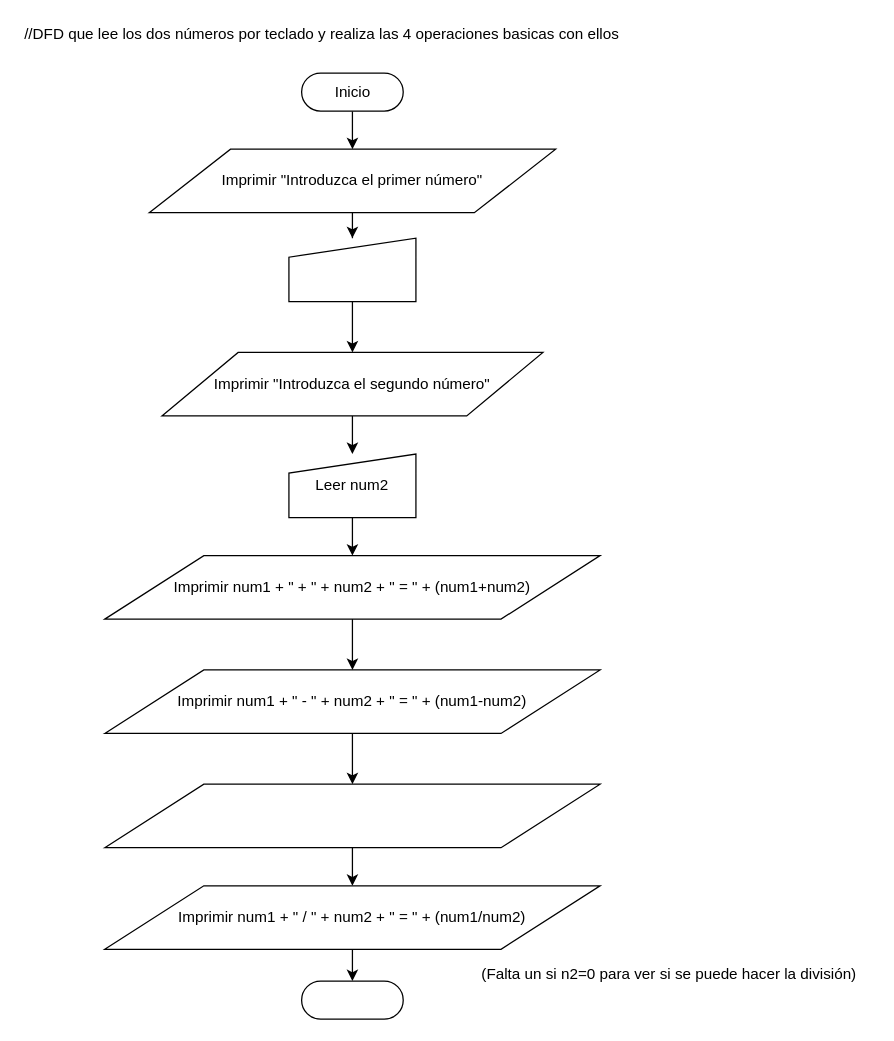
The diagram is 894 pixels wide and 1041 high, and some of its shapes have lost their labels. Each missing label, with the centre of its shape:
Fin: [351,999]
Imprimir num1 + " * " + num2 + " = " + (num1*num2): [352,815]
Leer num1: [352,269]
